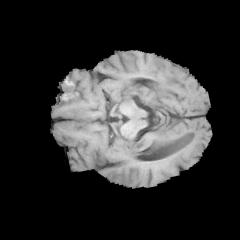glioma: (140, 59, 194, 94)
